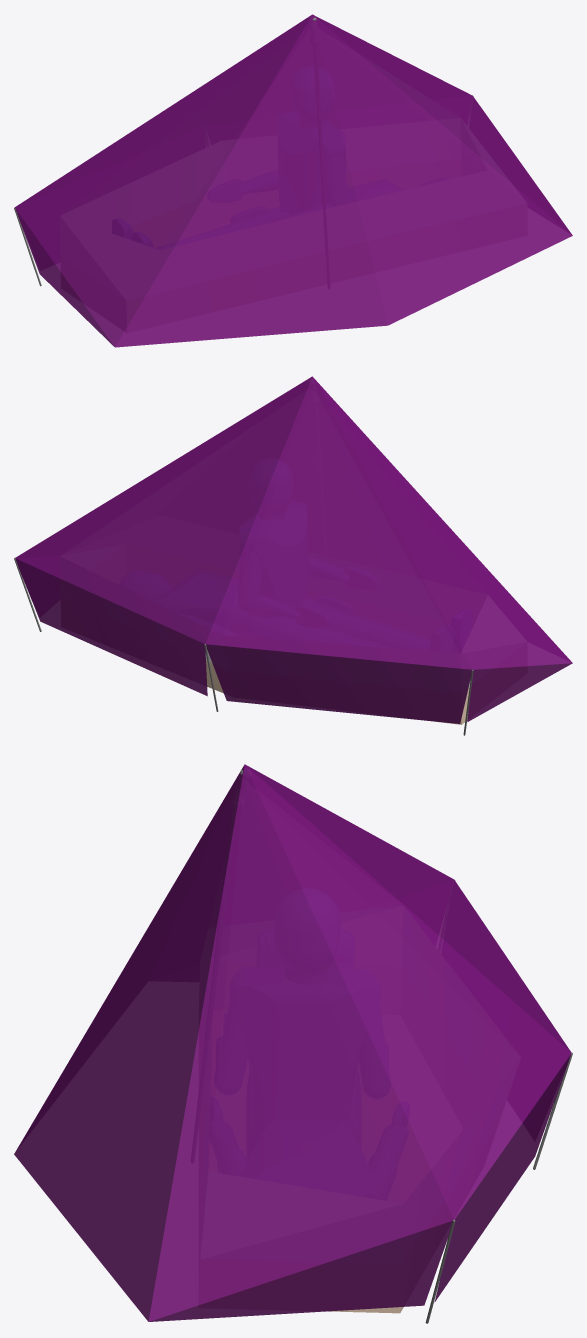
Rendered from TentJs.glb.
3 views of the same model, one above another, from view 1: azimuth 30°, elevation 25°; view 2: azimuth 150°, elevation 25°; view 3: azimuth 270°, elevation 25° (orthographic). The views are drawn at different scales.
Parts seen in each view (by area): view 1: TentFly; view 2: TentFly, Part6-1; view 3: TentFly.
Part boxes in pixels (x1,y1,x2,y2): TentFly: (15,14,572,347); TentFly: (15,376,572,723); Part6-1: (205,649,470,724); TentFly: (14,764,571,1321).
Size of the model in its own units: 2.41 by 1.33 by 1.66.
